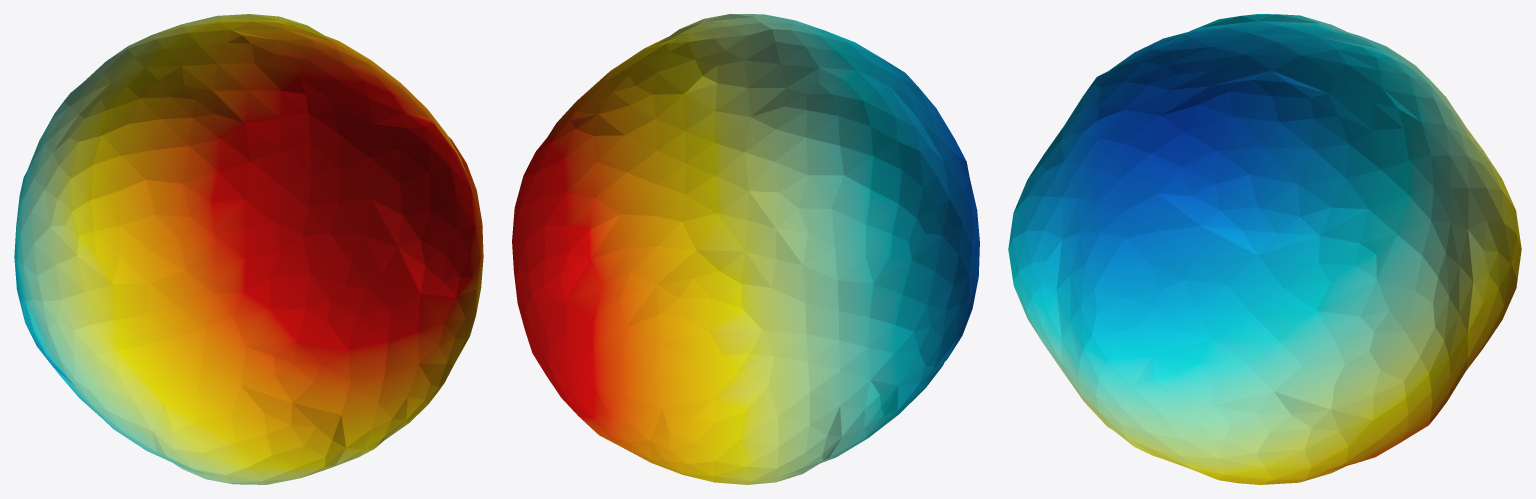
File: aneurysm.glb
The picture shows the model from 3 angles, left to right: view 1: azimuth 30°, elevation 25°; view 2: azimuth 150°, elevation 25°; view 3: azimuth 270°, elevation 25°; orthographic projection.
Parts seen in each view (by area): view 1: world; view 2: world; view 3: world.
Part boxes in pixels (left/top/right/bottom): world: left=14, top=14, right=483, bottom=484; world: left=512, top=14, right=979, bottom=484; world: left=1008, top=14, right=1521, bottom=484.
Size of the model in its own units: 6.15 by 6.16 by 6.54.
